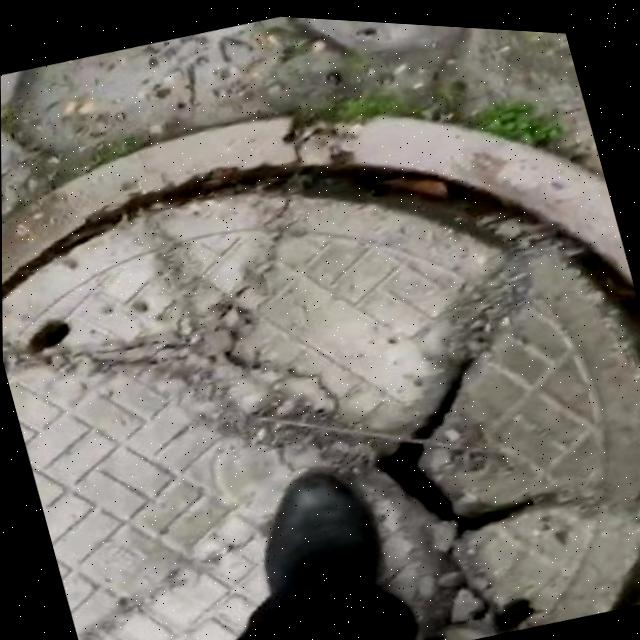manhole: (0, 30, 640, 640)
